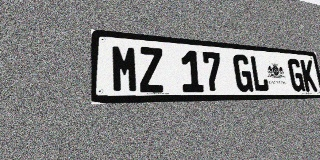1: (180, 50, 204, 92)
7: (201, 51, 224, 92)
G: (232, 54, 254, 92), (287, 58, 305, 92)
K: (300, 59, 318, 91)
L: (249, 55, 270, 92)
M: (111, 44, 139, 93)
Z: (138, 46, 165, 93)
